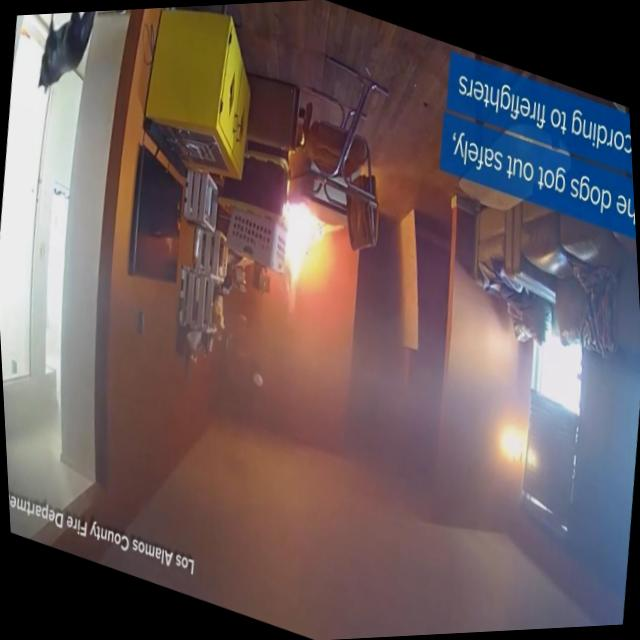fire: (268, 176, 348, 316)
